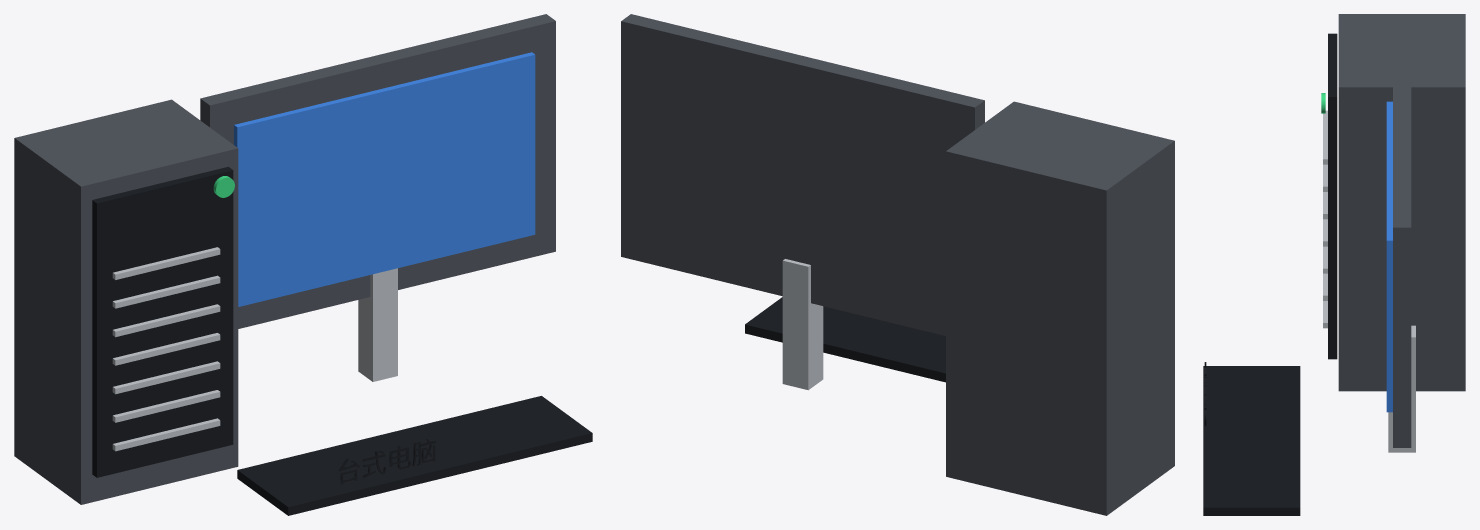
The model's file is asset_desktop.glb.
The picture shows the model from 3 angles, left to right: view 1: azimuth 30°, elevation 25°; view 2: azimuth 150°, elevation 25°; view 3: azimuth 270°, elevation 25°; orthographic projection. The views are drawn at different scales.
Visible parts, largest first — view 1: screen, tower, tower_front, monitor, keyboard, monitor_stand, asset_label, front_slot_2, front_slot_0, front_slot_1, front_slot_6, front_slot_5 (+2 smaller); view 2: tower, monitor, keyboard, monitor_stand; view 3: tower, keyboard, monitor, tower_front, screen, monitor_stand.
Boxes of the visible parts, x1,y1,x2,y2 form: screen: (234,52,535,306); tower: (14,99,238,504); tower_front: (92,166,233,477); monitor: (200,14,555,328); keyboard: (237,396,592,515); monitor_stand: (358,268,397,381); asset_label: (338,438,435,484); front_slot_2: (112,361,220,394); front_slot_0: (112,418,220,451); front_slot_1: (112,390,220,422); front_slot_6: (112,247,220,279); front_slot_5: (112,275,220,308); tower: (946,101,1174,515); monitor: (621,14,984,335); keyboard: (745,297,945,382); monitor_stand: (782,259,823,390); tower: (1338,14,1465,391); keyboard: (1203,366,1300,515); monitor: (1393,66,1411,447); tower_front: (1328,33,1337,359); screen: (1386,101,1392,412); monitor_stand: (1388,325,1415,452).
Size of the model in its own units: 2.4 by 1.55 by 1.13.
